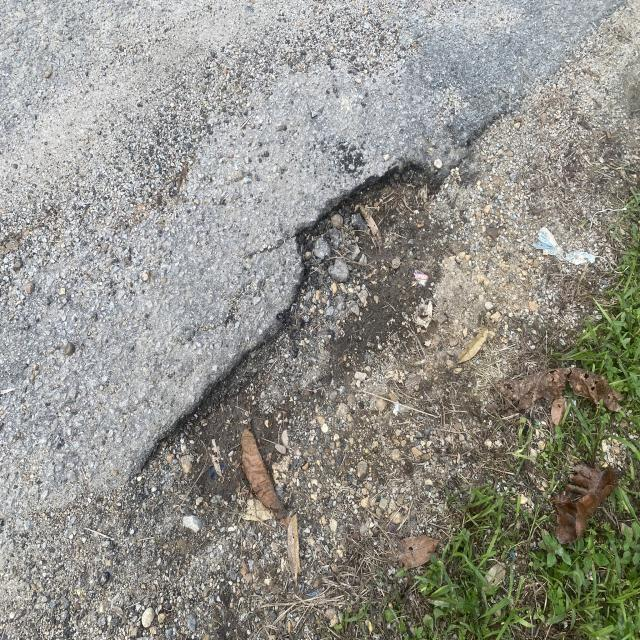pothole: (95, 143, 556, 460)
